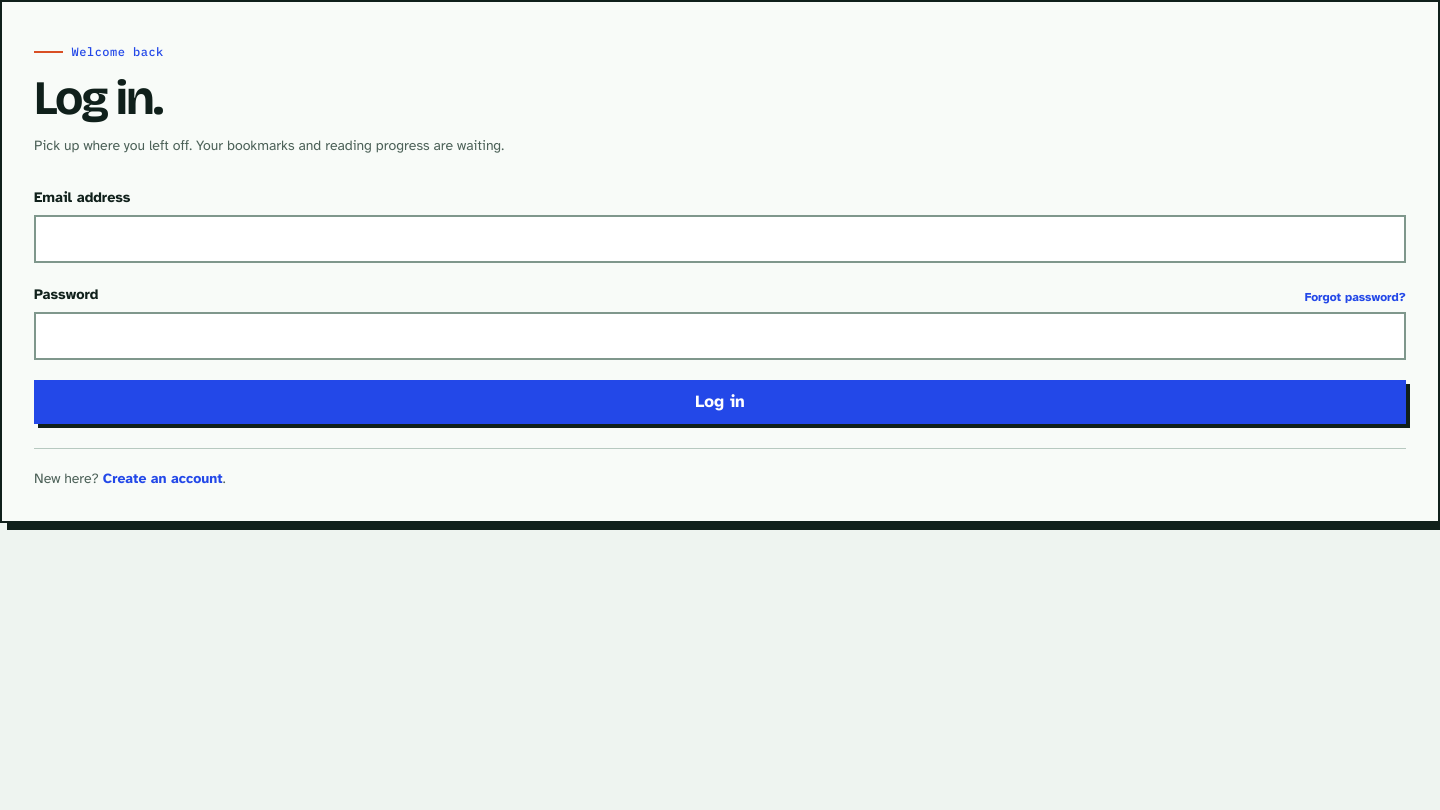
LoginForm › shows validation messages without calling the API
The image size is (1440, 810).
Type "not-an-email" into the field labelled "Email address". click: (720, 239)
box: [34,215,1406,263]
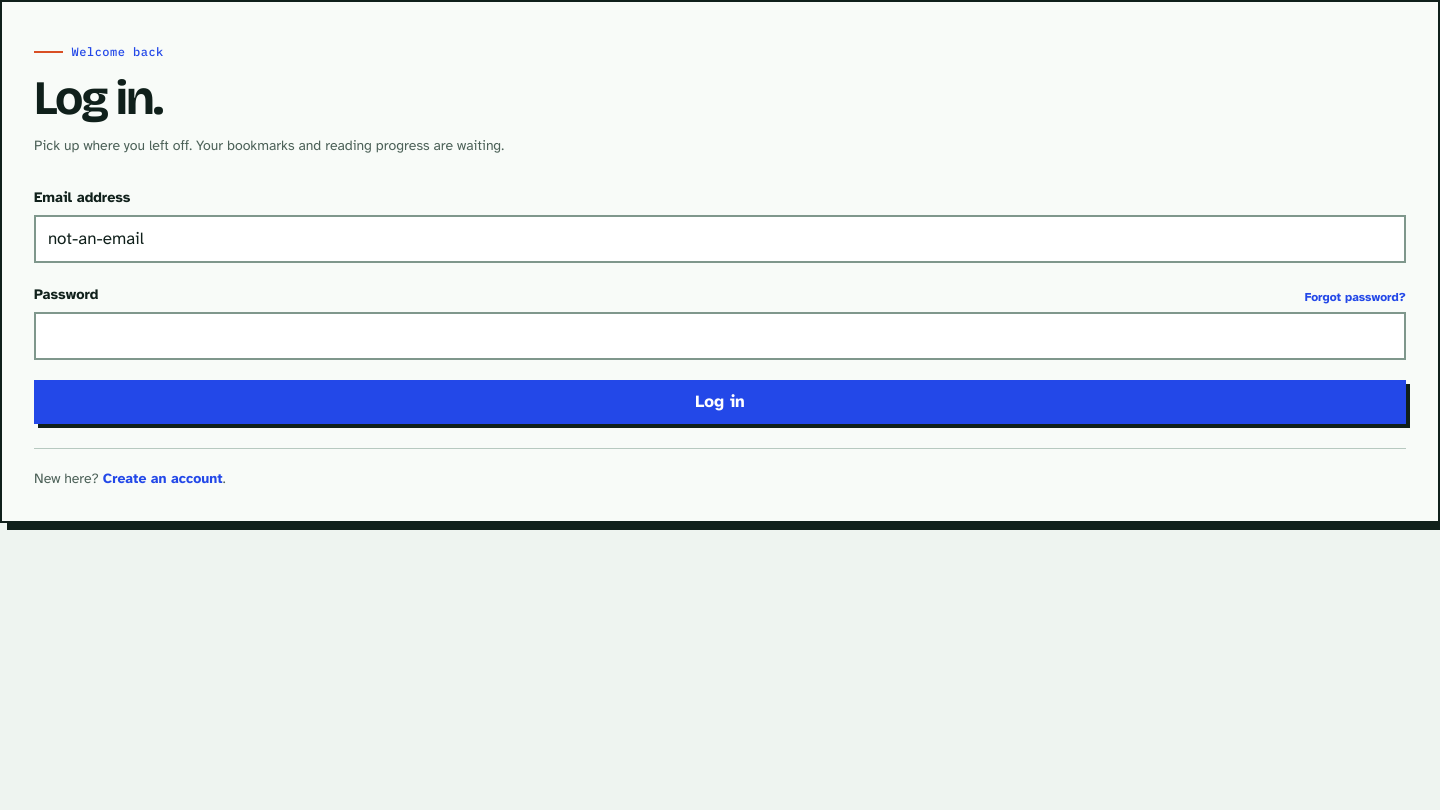
Click the button "Log in". click: (720, 402)
box: [34,380,1406,424]
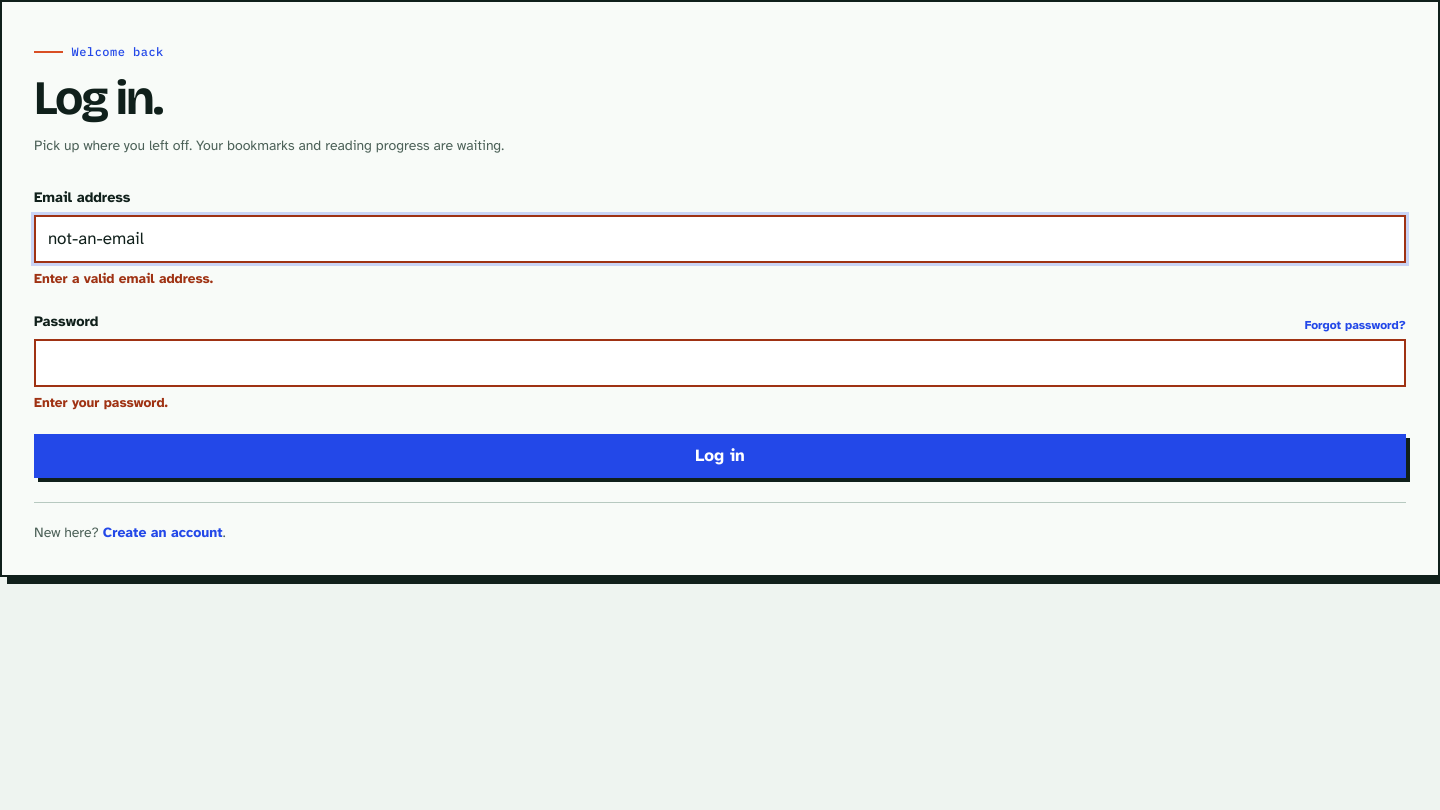
Now the text "Enter a valid email address." is shown, box [34,270,213,286]
